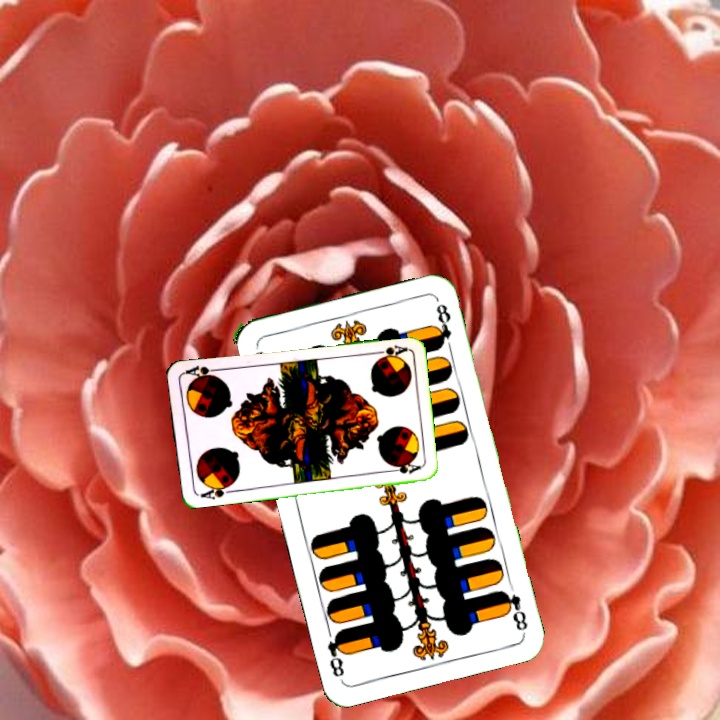E8: (497, 586, 530, 635)
SA: (195, 480, 235, 502), (369, 341, 409, 362)
